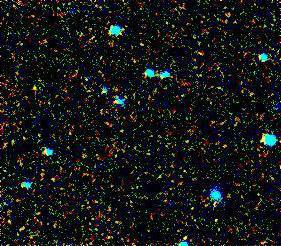star: (19, 74, 49, 104)
